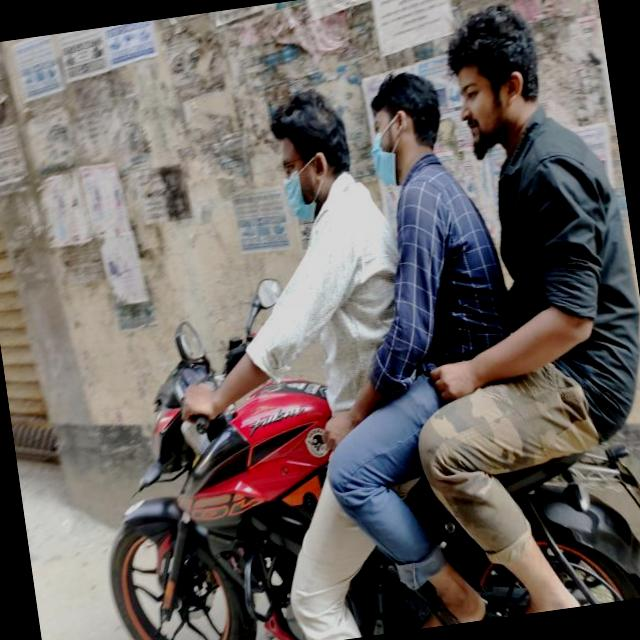motorcycle: (63, 274, 362, 640)
person: (433, 0, 640, 615), (345, 51, 547, 628), (225, 88, 433, 640)
